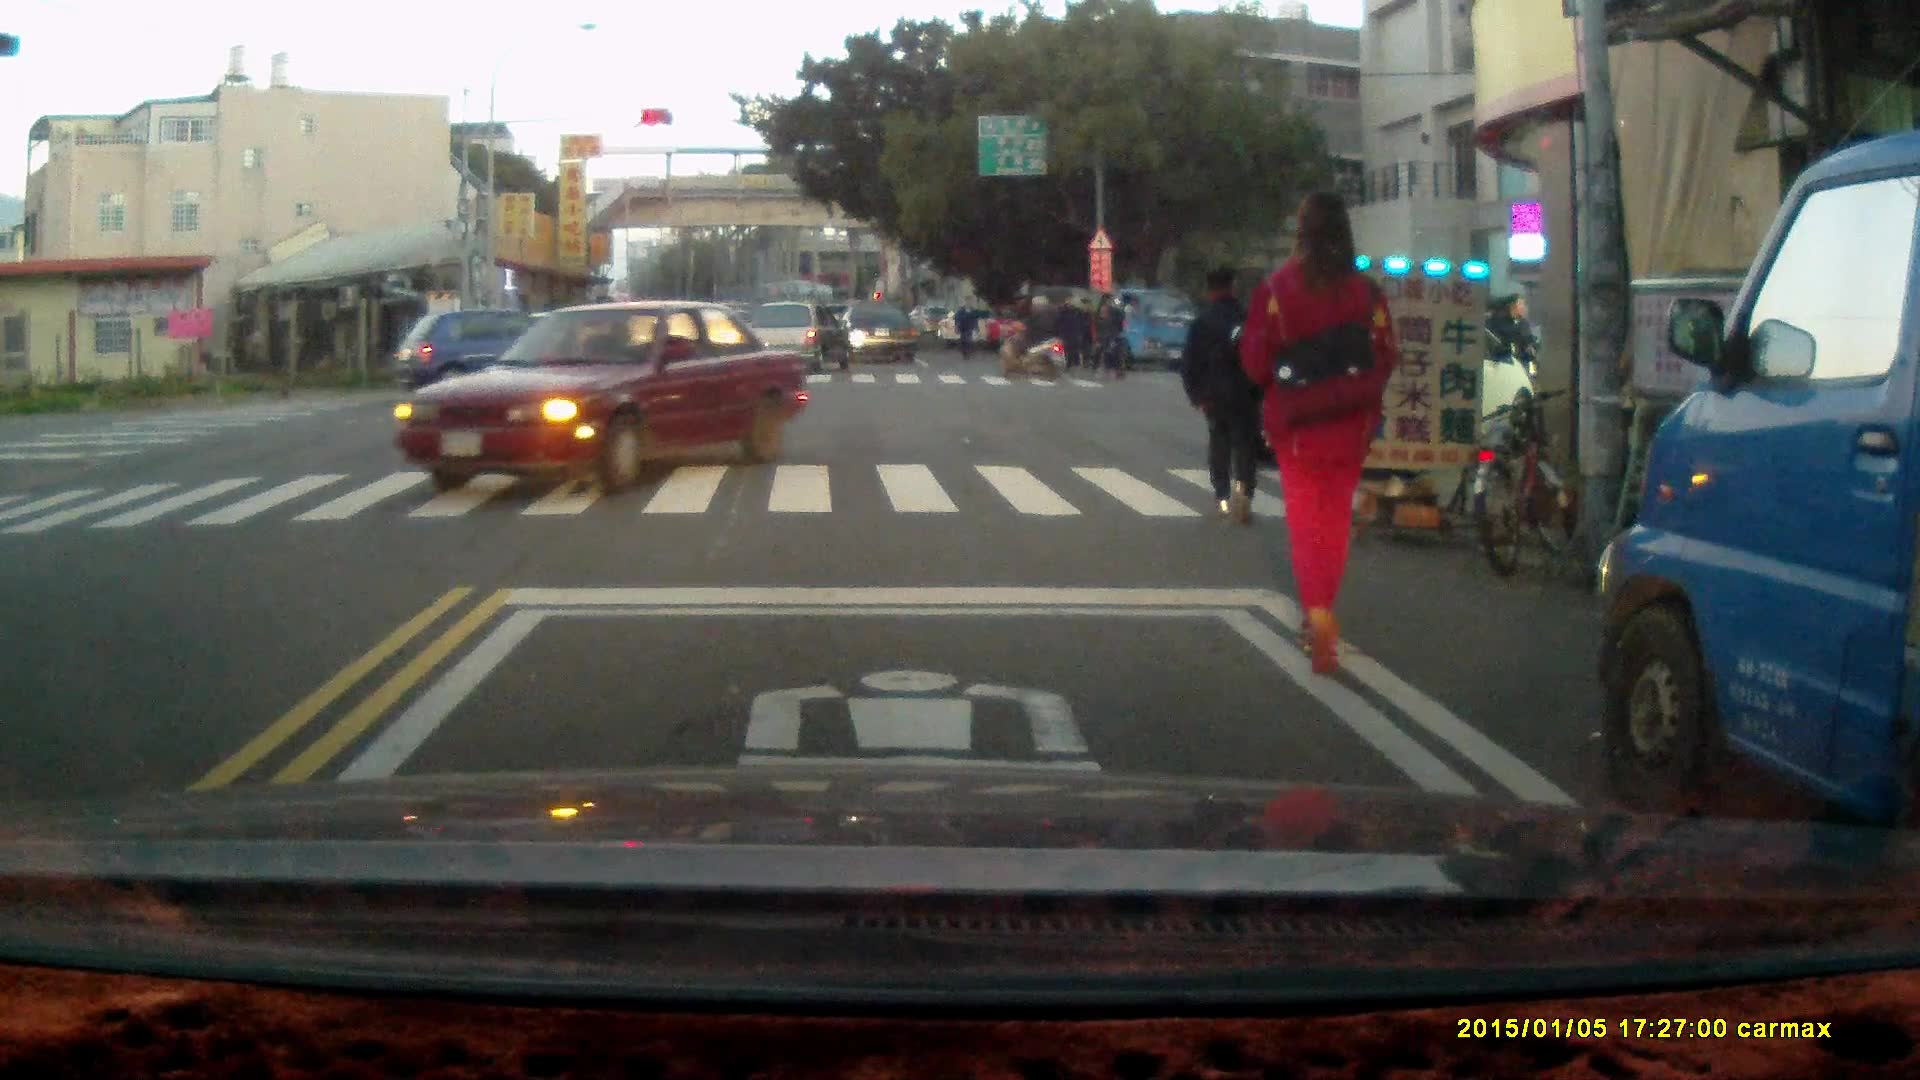pedestrian: (1243, 192, 1396, 676), (1176, 257, 1281, 526), (1488, 293, 1538, 416), (1050, 290, 1082, 375), (1089, 295, 1115, 369), (954, 292, 977, 363)
rider: (1000, 293, 1060, 381)
vehicle: (1598, 132, 1920, 867), (392, 303, 819, 492), (1233, 296, 1533, 459), (1002, 284, 1203, 367), (830, 295, 925, 366)
